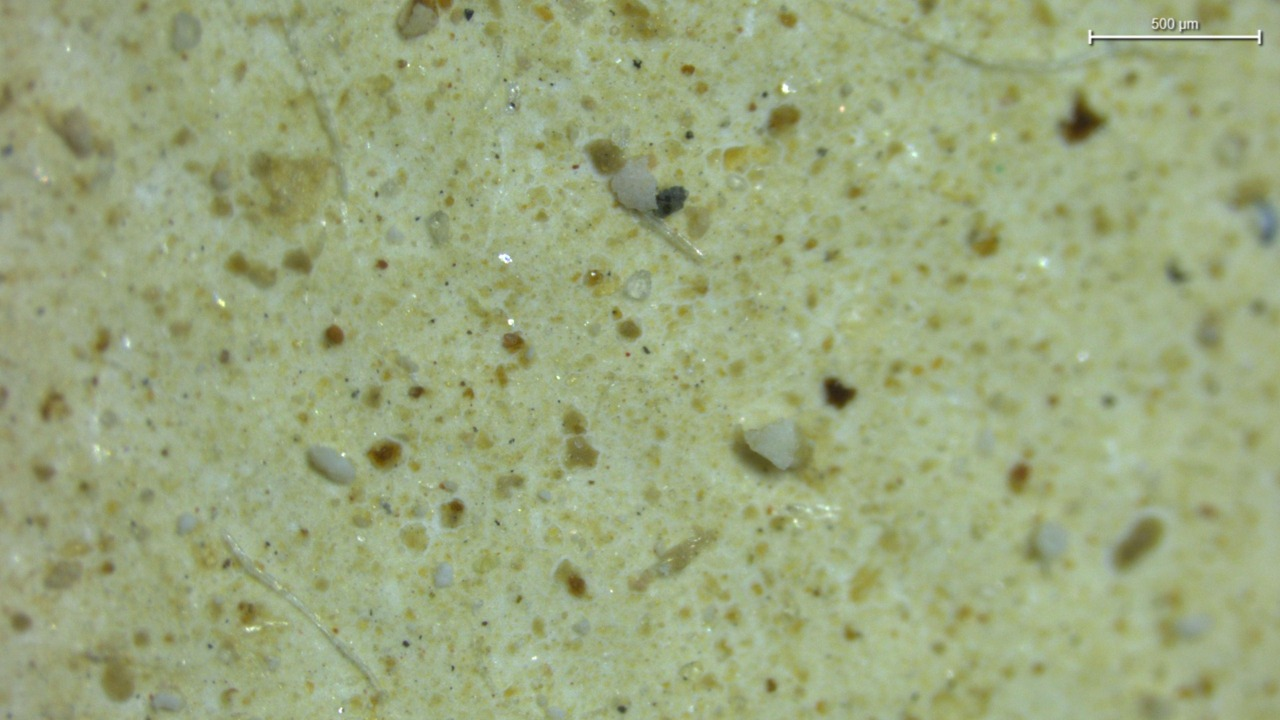microplastic_fragment: (744, 419, 800, 470), (611, 158, 657, 211), (308, 445, 356, 484), (625, 270, 651, 299), (434, 562, 454, 587)
